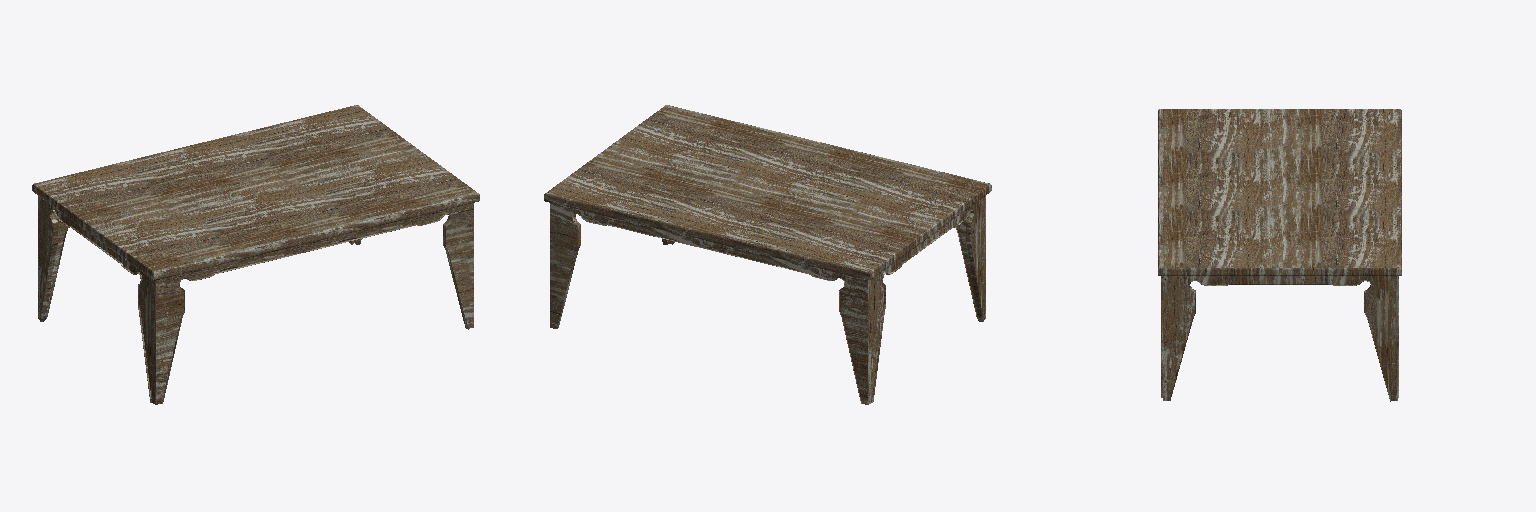
3 renders of one model, left to right at view 1: azimuth 30°, elevation 25°; view 2: azimuth 150°, elevation 25°; view 3: azimuth 270°, elevation 25°, orthographic.
Parts seen in each view (by area): view 1: backup; view 2: backup; view 3: backup.
Boxes of the visible parts, x1=… form: backup: x1=32, y1=105, x2=479, y2=404; backup: x1=544, y1=105, x2=991, y2=404; backup: x1=1158, y1=109, x2=1401, y2=401.
Bounding box in the file's own units: 109 × 43.39 × 71.03.
Materials: 1 (1 with a texture image).